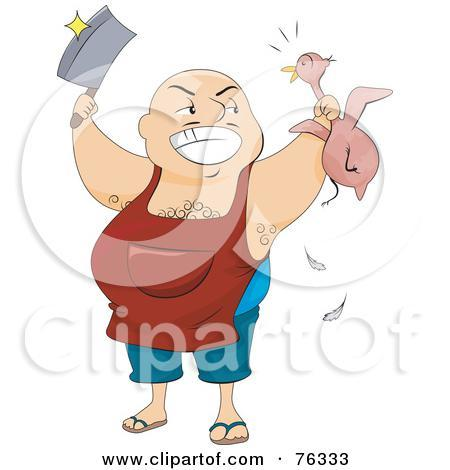bird: (277, 46, 393, 209)
person: (68, 63, 346, 453)
